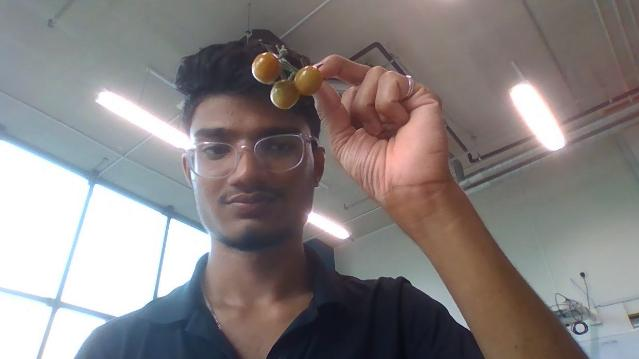Fully Grown: (250, 51, 282, 84), (269, 78, 300, 110), (293, 64, 323, 96)
